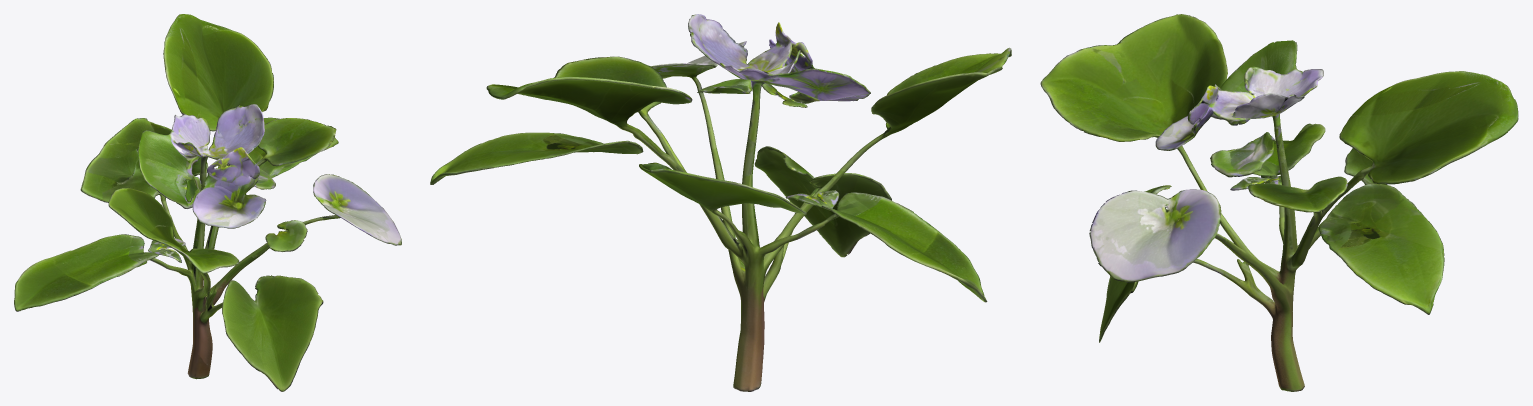
File: brahmi.glb
3 views of the same model, side by side, from view 1: azimuth 30°, elevation 25°; view 2: azimuth 150°, elevation 25°; view 3: azimuth 270°, elevation 25° (orthographic). The views are drawn at different scales.
Bounding box in the file's own units: 2 × 1.45 × 1.83.
Materials: 1 (1 with a texture image).
